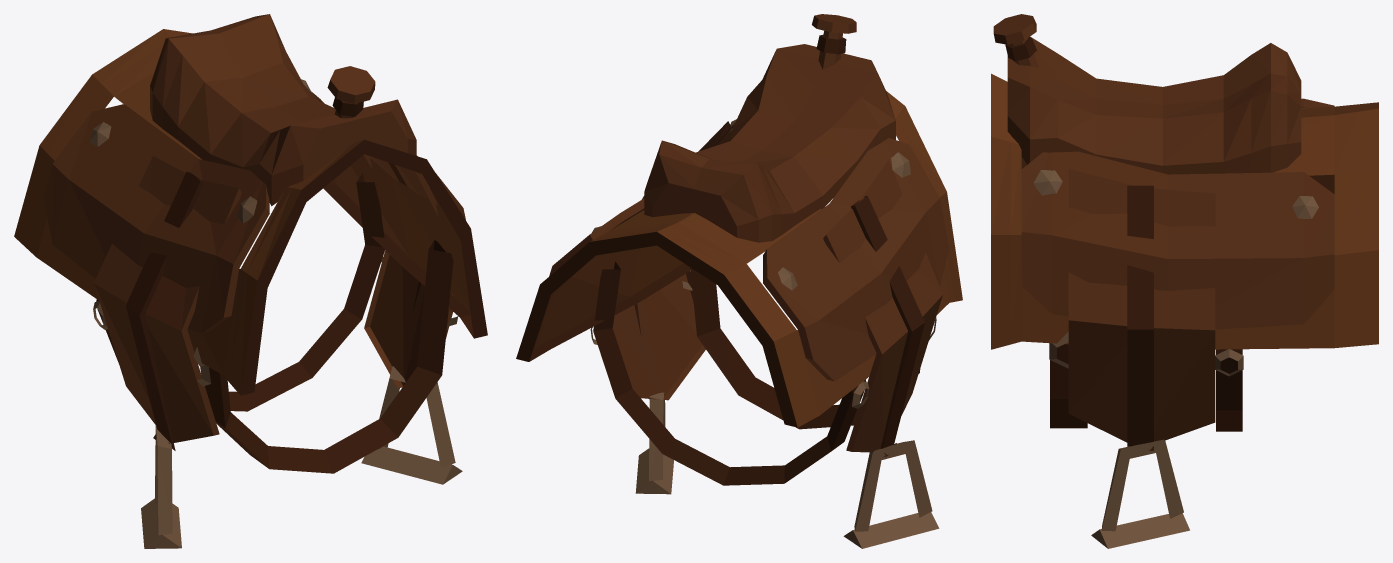
Rendered from horse_saddle.glb.
The picture shows the model from 3 angles, left to right: view 1: azimuth 30°, elevation 25°; view 2: azimuth 150°, elevation 25°; view 3: azimuth 270°, elevation 25°; orthographic projection. The views are drawn at different scales.
Parts seen in each view (by area): view 1: attach-saddle-mesh; view 2: attach-saddle-mesh; view 3: attach-saddle-mesh.
Boxes of the visible parts, x1=… form: attach-saddle-mesh: x1=14, y1=14, x2=487, y2=548; attach-saddle-mesh: x1=516, y1=14, x2=962, y2=548; attach-saddle-mesh: x1=991, y1=14, x2=1378, y2=548.
Size of the model in its own units: 0.641 by 0.905 by 0.7.
